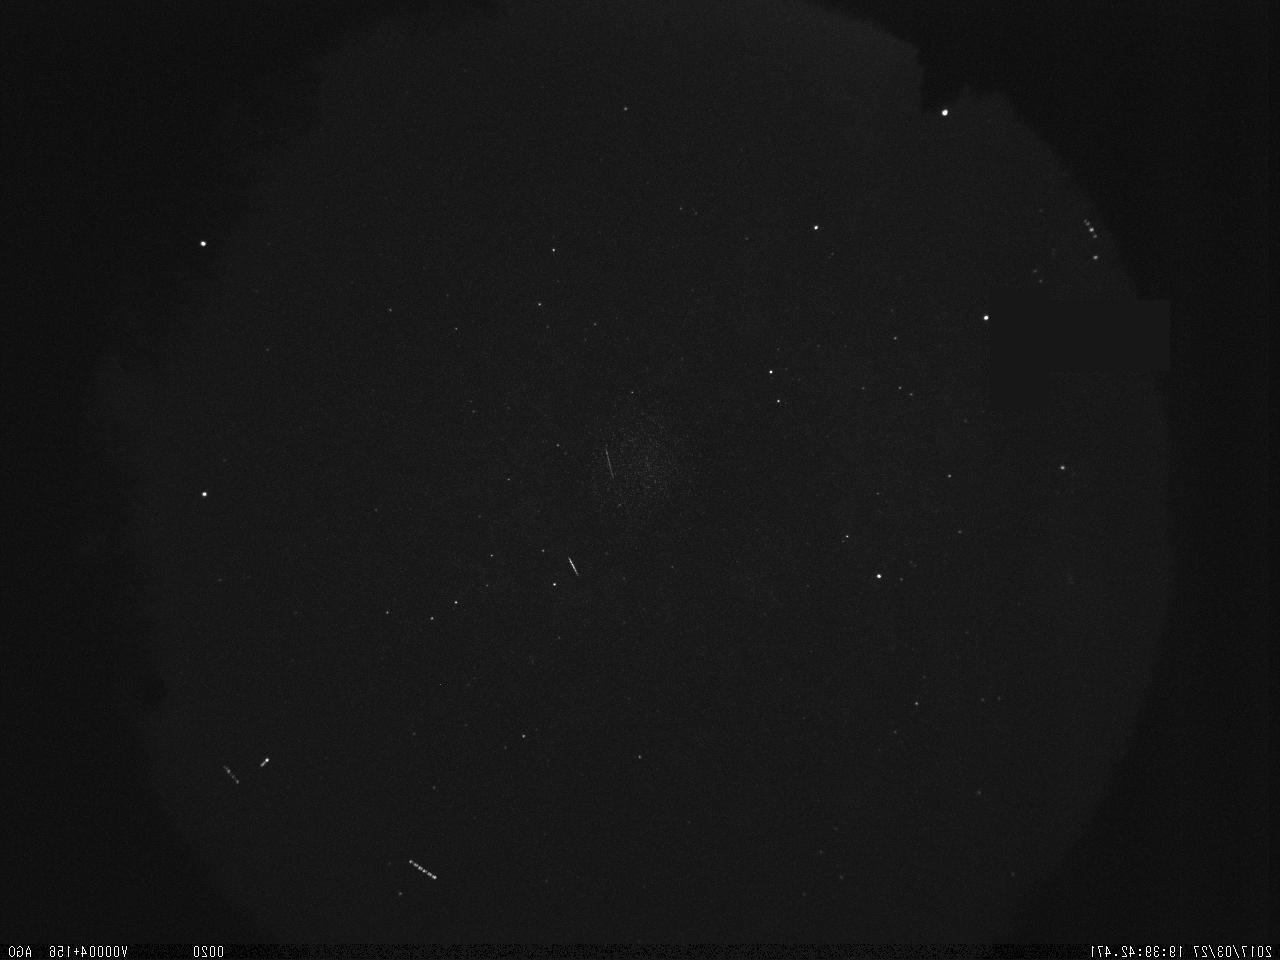meteor: (562, 547, 583, 583)
